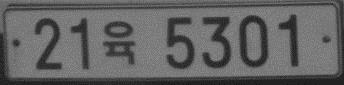0: (238, 13, 269, 69)
1: (273, 11, 303, 69), (66, 15, 94, 72)
2: (32, 16, 64, 71)
3: (200, 15, 231, 70)
5: (164, 14, 195, 71)
육: (101, 19, 138, 66)
